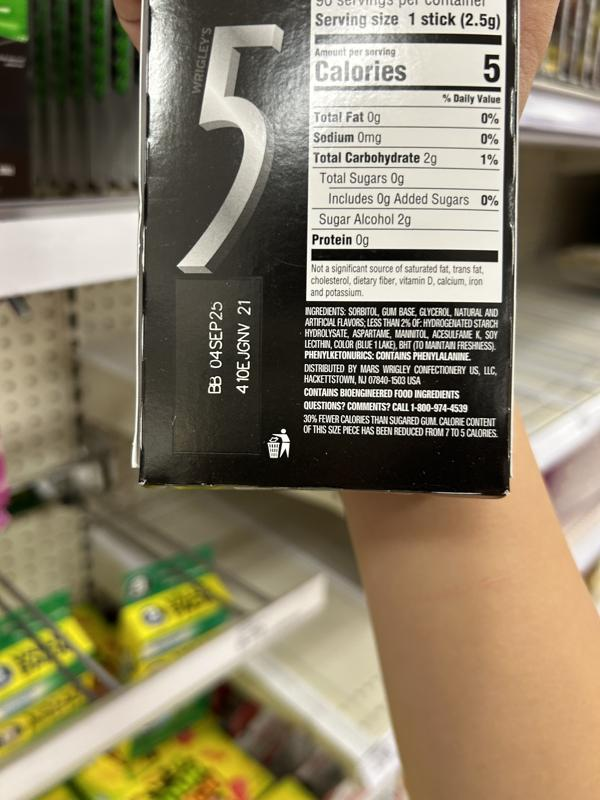ingredients: (302, 305, 502, 352)
